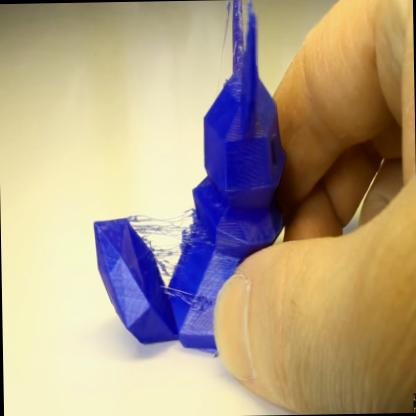fail: (136, 206, 198, 259)
